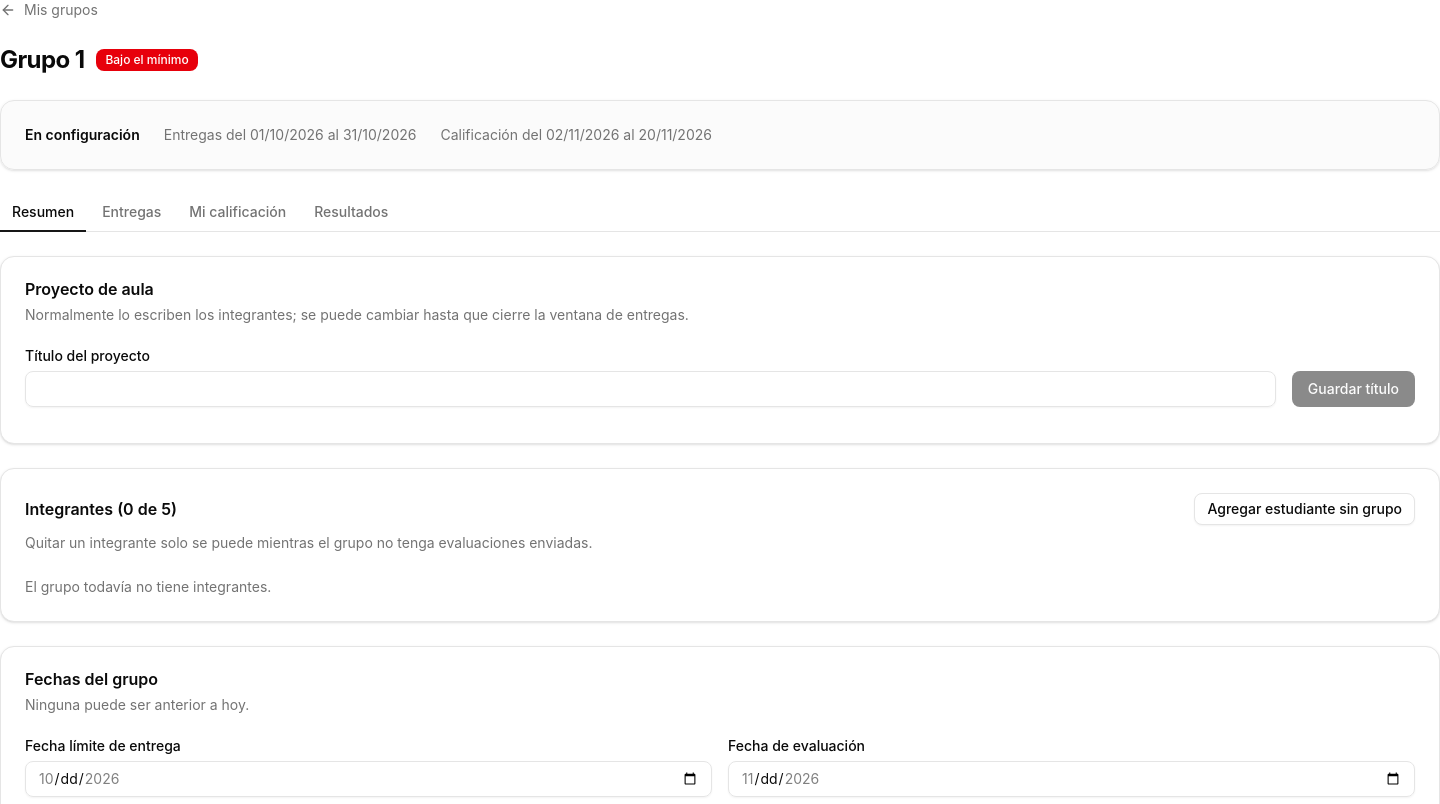
Test: GroupDetailPage › shows the reason when the API rejects a date
Type "2026-11-25" into the date field labelled "Fecha de evaluación" at coordinates (1072, 779), box [728,761,1415,797]
(page scrolled)
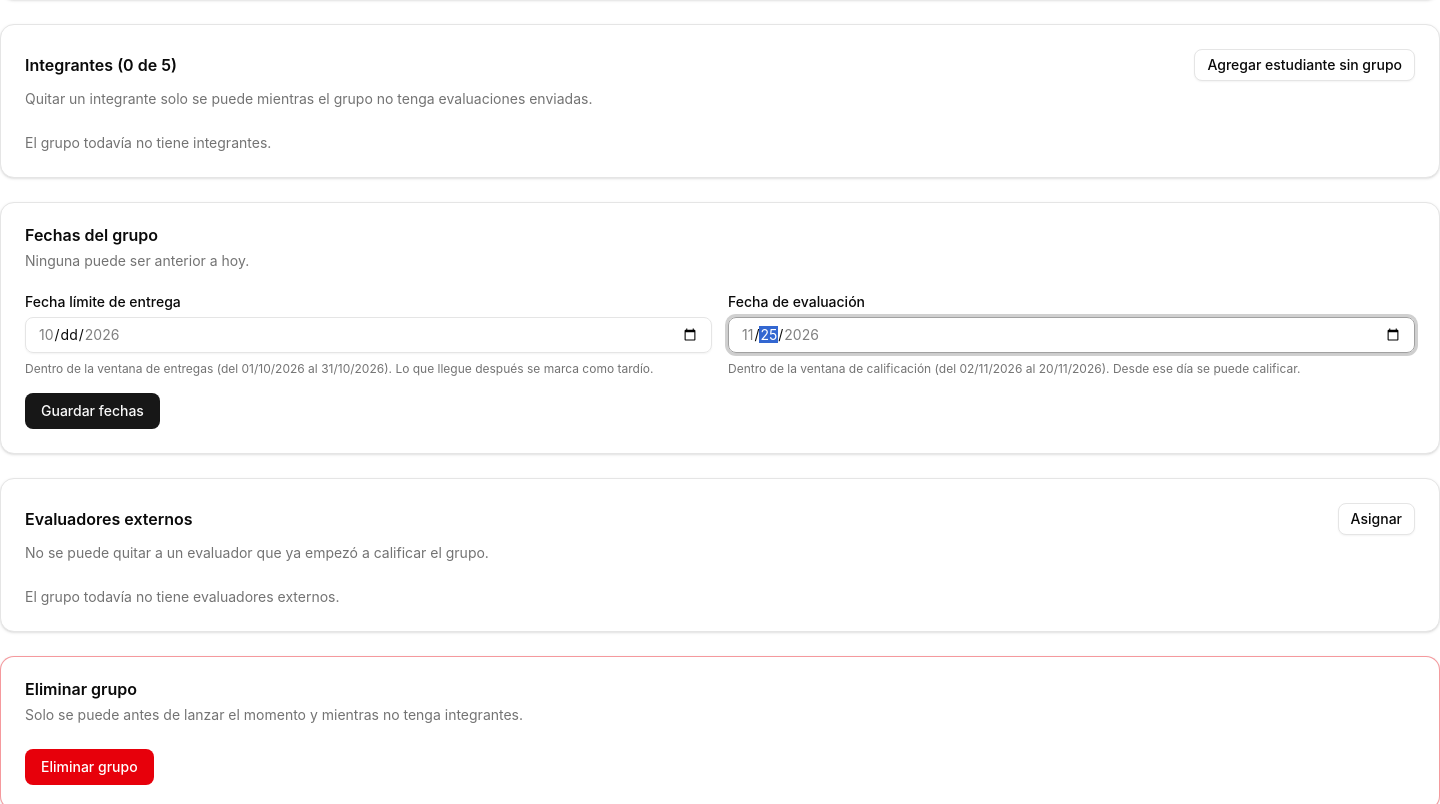
Click the button "Guardar fechas" at coordinates (92, 411), box [25,393,160,429]
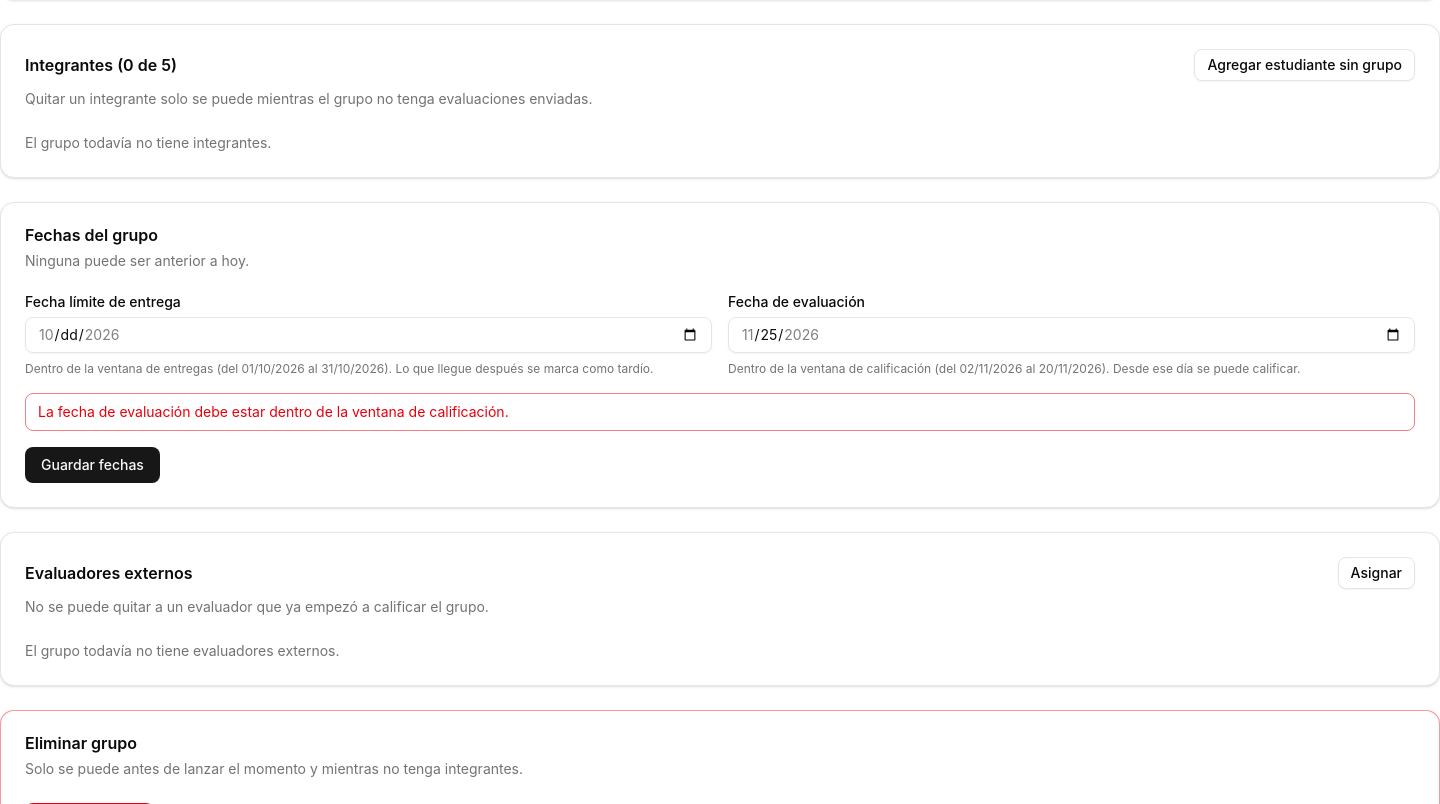
Check: the message shows "ventana de calificación", box [38,403,509,420]
